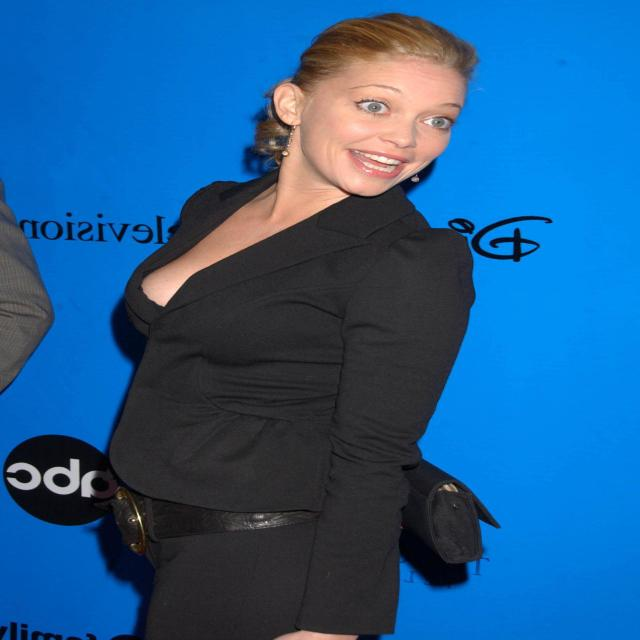no-earmuff: (257, 75, 325, 135)
